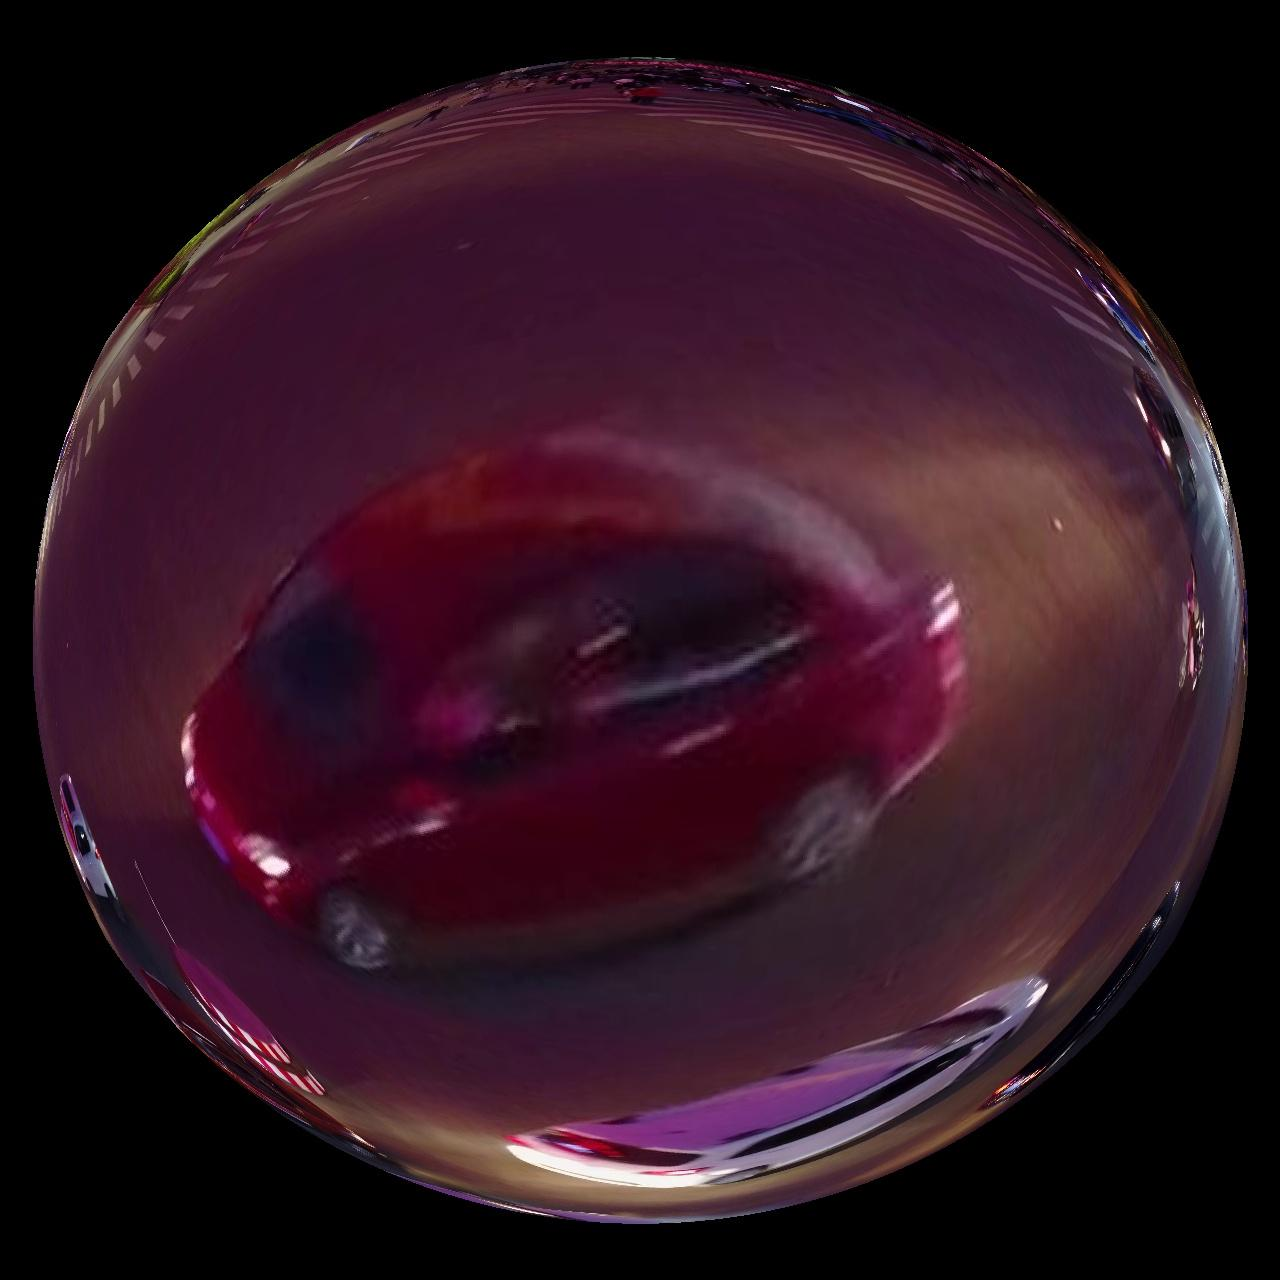cars: (181, 434, 967, 972)
